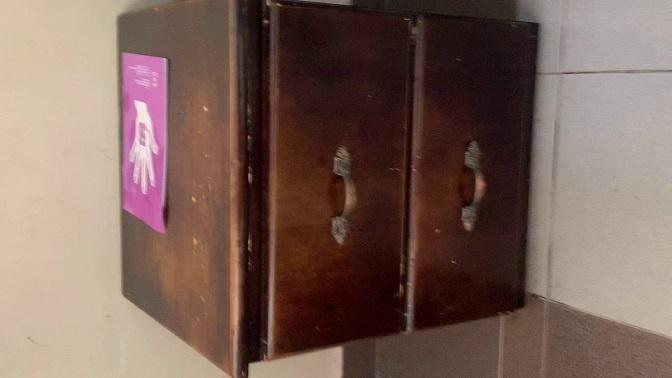cabinet_door: (271, 6, 407, 346), (418, 15, 528, 324)
handle: (330, 143, 361, 247), (458, 137, 490, 235)
